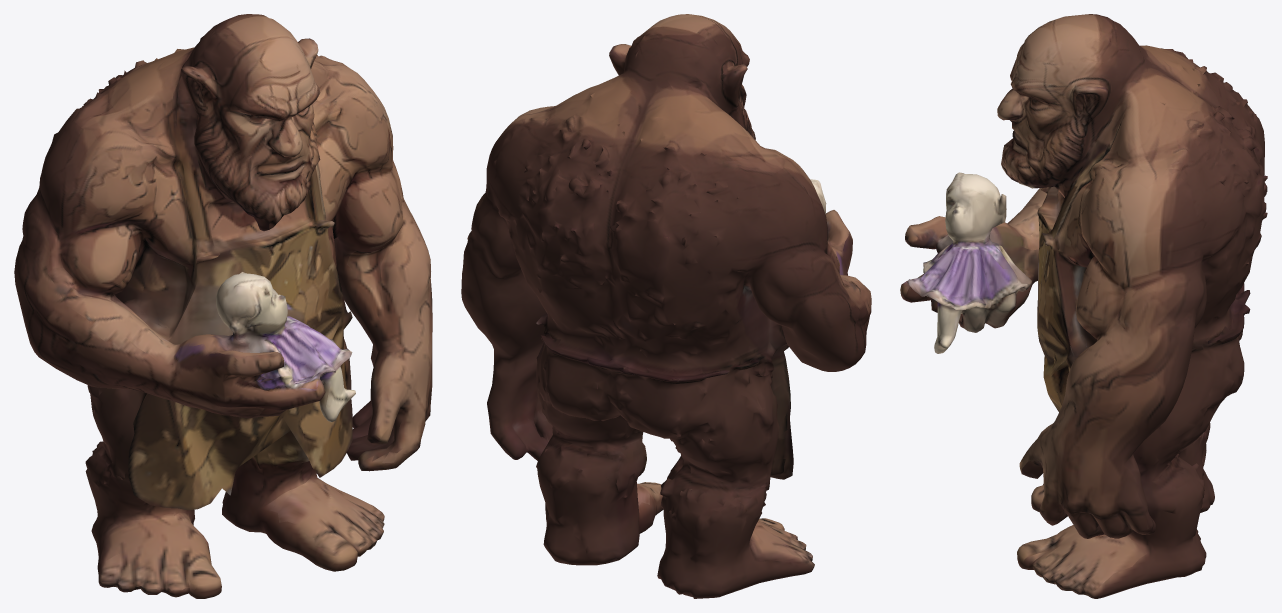
File: Uncle_Gesso.glb
The picture shows the model from 3 angles, left to right: view 1: azimuth 30°, elevation 25°; view 2: azimuth 150°, elevation 25°; view 3: azimuth 270°, elevation 25°; orthographic projection. The views are drawn at different scales.
Visible parts, largest first — view 1: StoneTroll; view 2: StoneTroll; view 3: StoneTroll.
Boxes of the visible parts, x1,y1,x2,y2 form: StoneTroll: (14,14,432,598); StoneTroll: (461,14,871,598); StoneTroll: (900,14,1267,598).
Size of the model in its own units: 1.91 by 2.5 by 1.6.
Materials: 1 (1 with a texture image).
